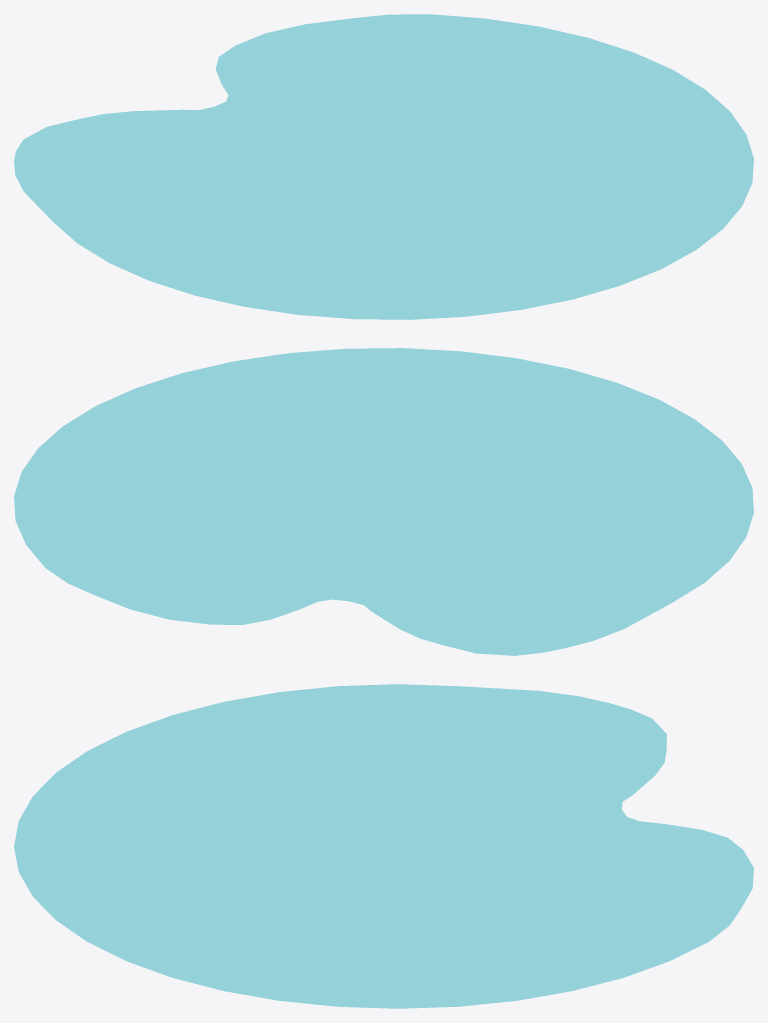
Rendered from Puddle.fbx.
3 views of the same model, one above another, from view 1: azimuth 30°, elevation 25°; view 2: azimuth 150°, elevation 25°; view 3: azimuth 270°, elevation 25° (orthographic). The views are drawn at different scales.
Visible parts, largest first — view 1: Puddle; view 2: Puddle; view 3: Puddle.
Part boxes in pixels (x1,y1,x2,y2): Puddle: [14, 14, 753, 319]; Puddle: [14, 348, 753, 655]; Puddle: [14, 684, 753, 1008].
Size of the model in its own units: 0.6096 by 0 by 0.5872.
